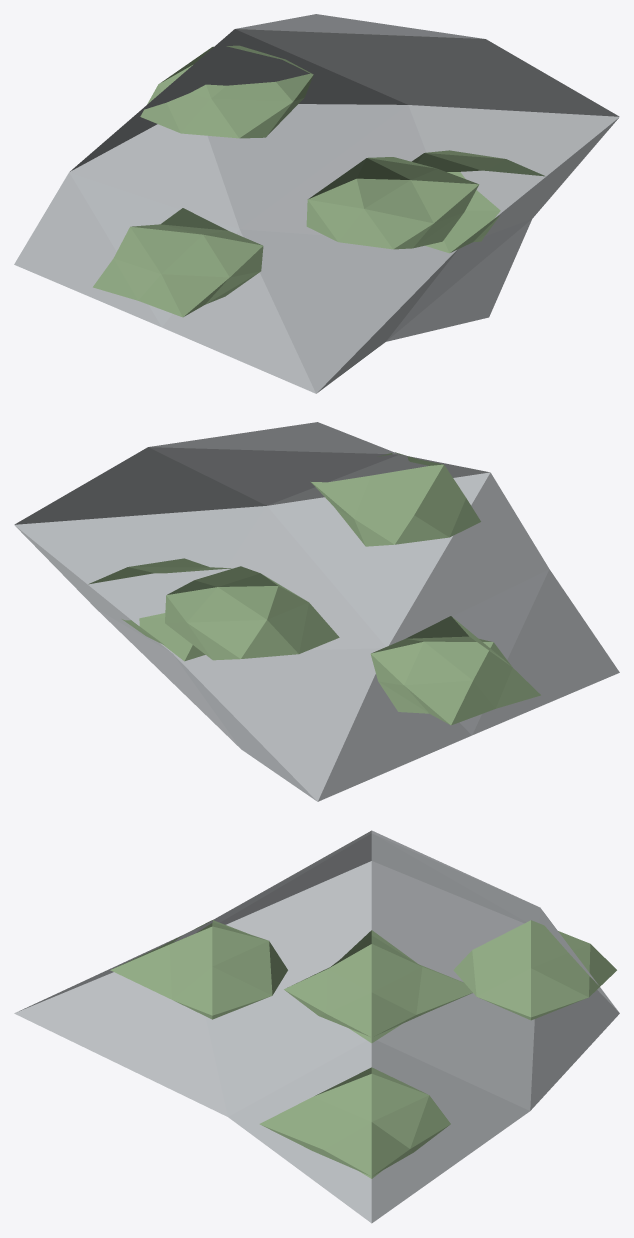
The model's file is moss_rock_v02.glb.
3 views of the same model, one above another, from view 1: azimuth 30°, elevation 25°; view 2: azimuth 150°, elevation 25°; view 3: azimuth 270°, elevation 25° (orthographic). The views are drawn at different scales.
Visible parts, largest first — view 1: lod0; view 2: lod0; view 3: lod0.
Boxes of the visible parts, x1=… form: lod0: x1=14, y1=14, x2=619, y2=393; lod0: x1=14, y1=422, x2=619, y2=801; lod0: x1=14, y1=830, x2=619, y2=1223.
Size of what is drawn, in the model's own units: 1.25 by 0.7488 by 1.05.
